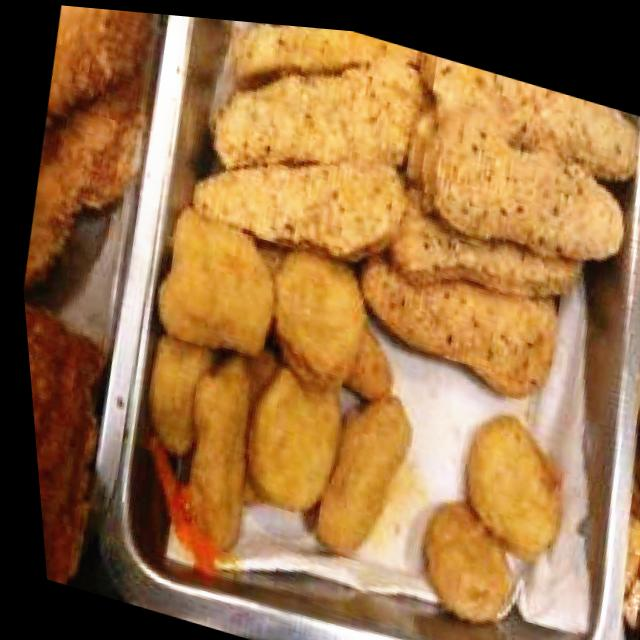chicken_nuggets: (103, 203, 459, 608), (443, 407, 579, 566), (405, 492, 528, 630)
